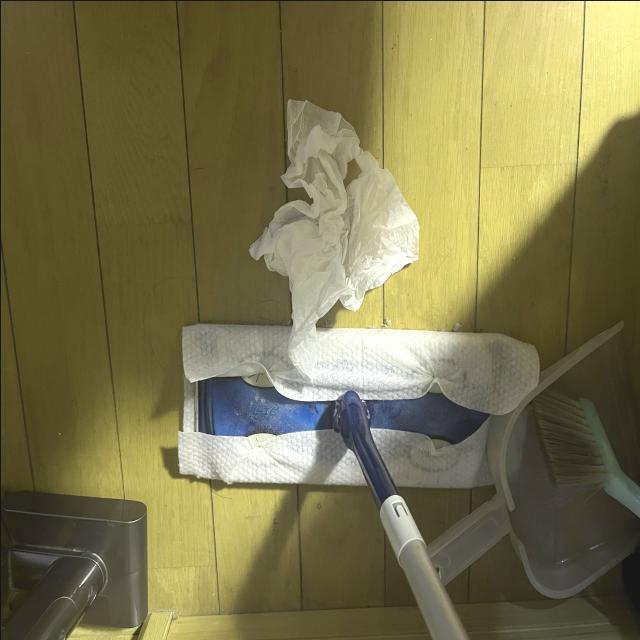Paper: (266, 104, 411, 332)
